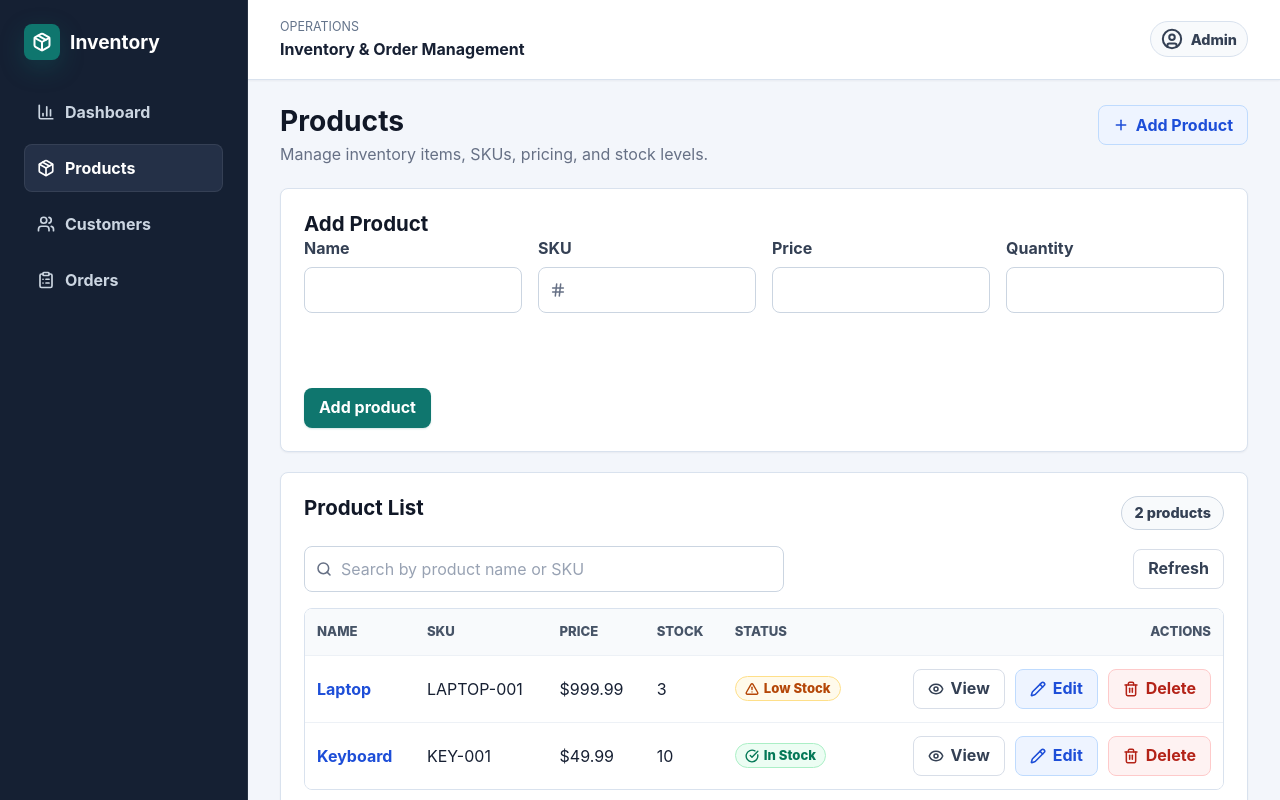
it: frontend flows › successful product creation clears and hides SKU suggestions
Type "Wireless Mouse" into the field labelled "Name".
click(413, 290); type("Wireless Mouse")  # box top-left (304, 267), bottom-right (522, 313)
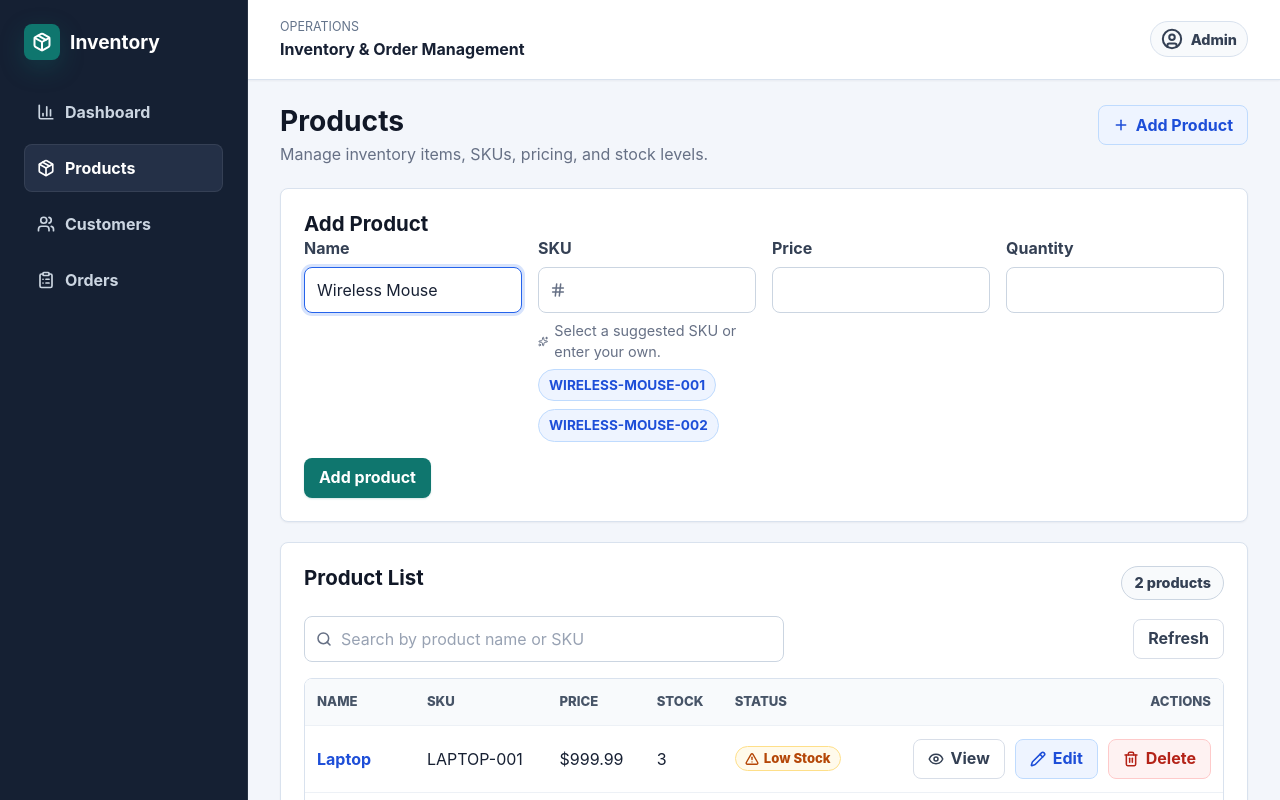
Now the button "WIRELESS-MOUSE-001" is shown, box top-left (538, 369), bottom-right (716, 401)
Type "wireless-mouse-custom" into the field labelled "SKU".
click(647, 290); type("wireless-mouse-custom")  # box top-left (538, 267), bottom-right (756, 313)
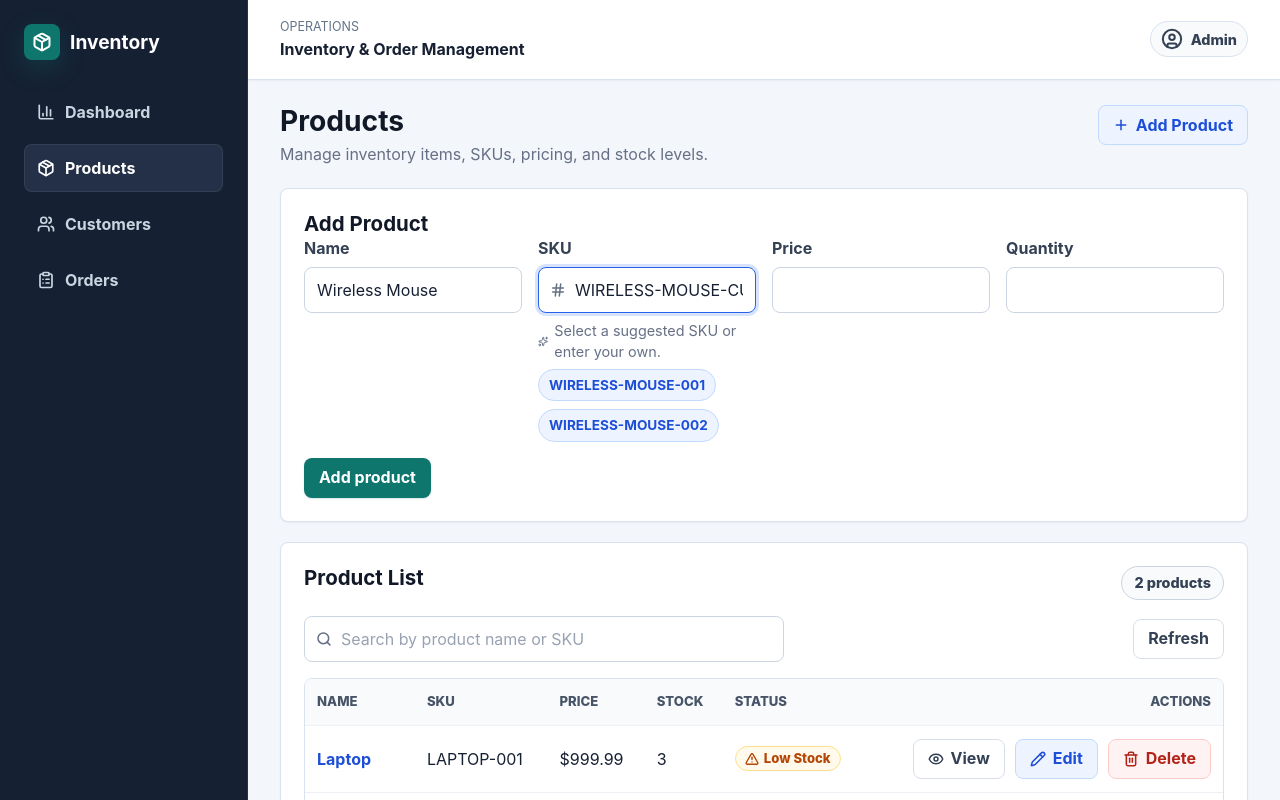
Type "49.99" into the number field labelled "Price".
click(881, 290); type("49.99")  # box top-left (772, 267), bottom-right (990, 313)
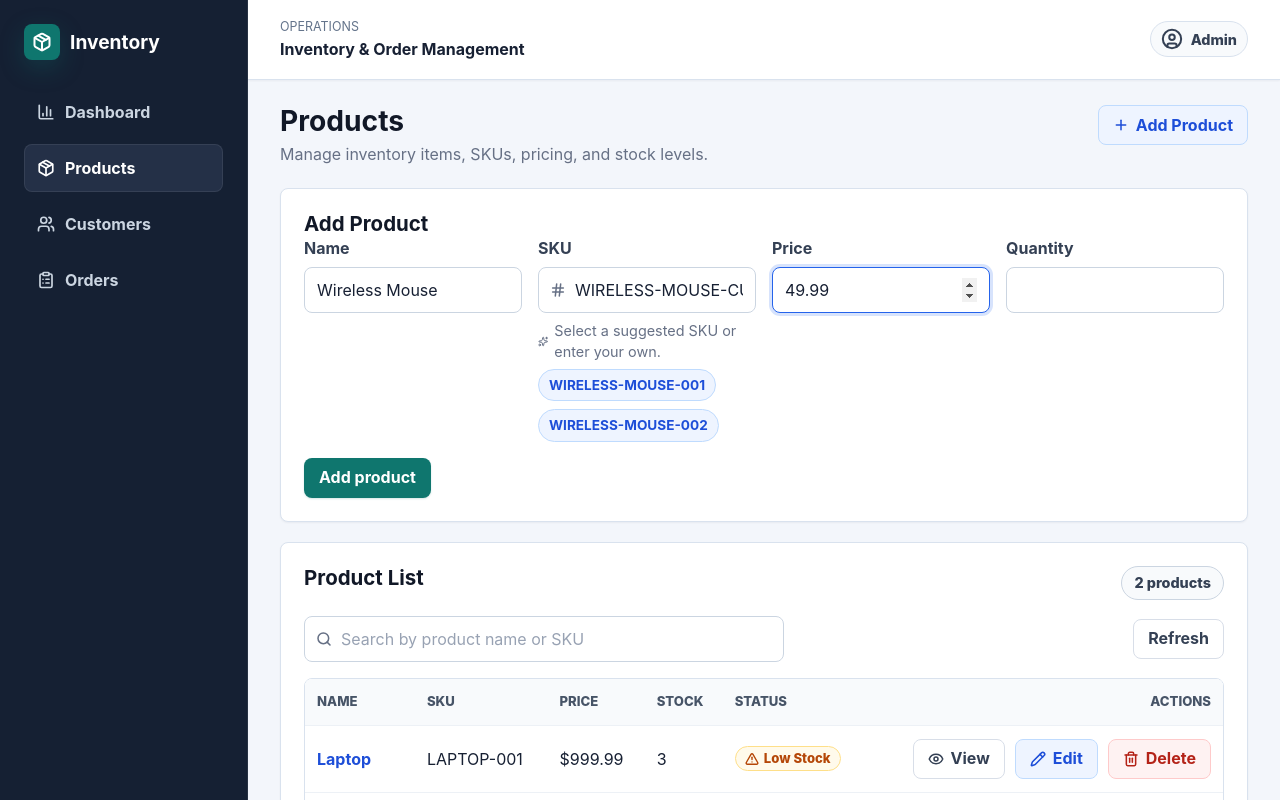
Type "12" into the number field labelled "Quantity".
click(1115, 290); type("12")  # box top-left (1006, 267), bottom-right (1224, 313)
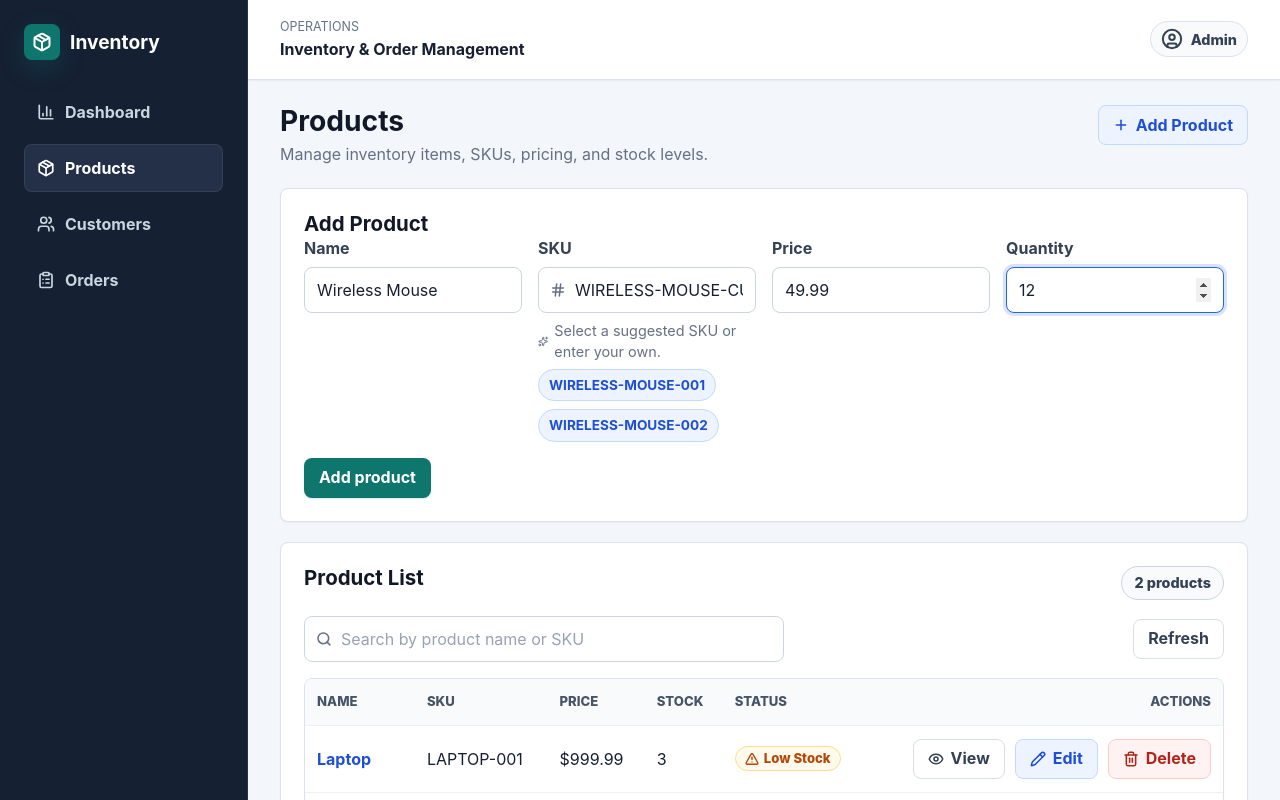
Click the button "Add product".
click(367, 478)  # box top-left (304, 458), bottom-right (431, 498)
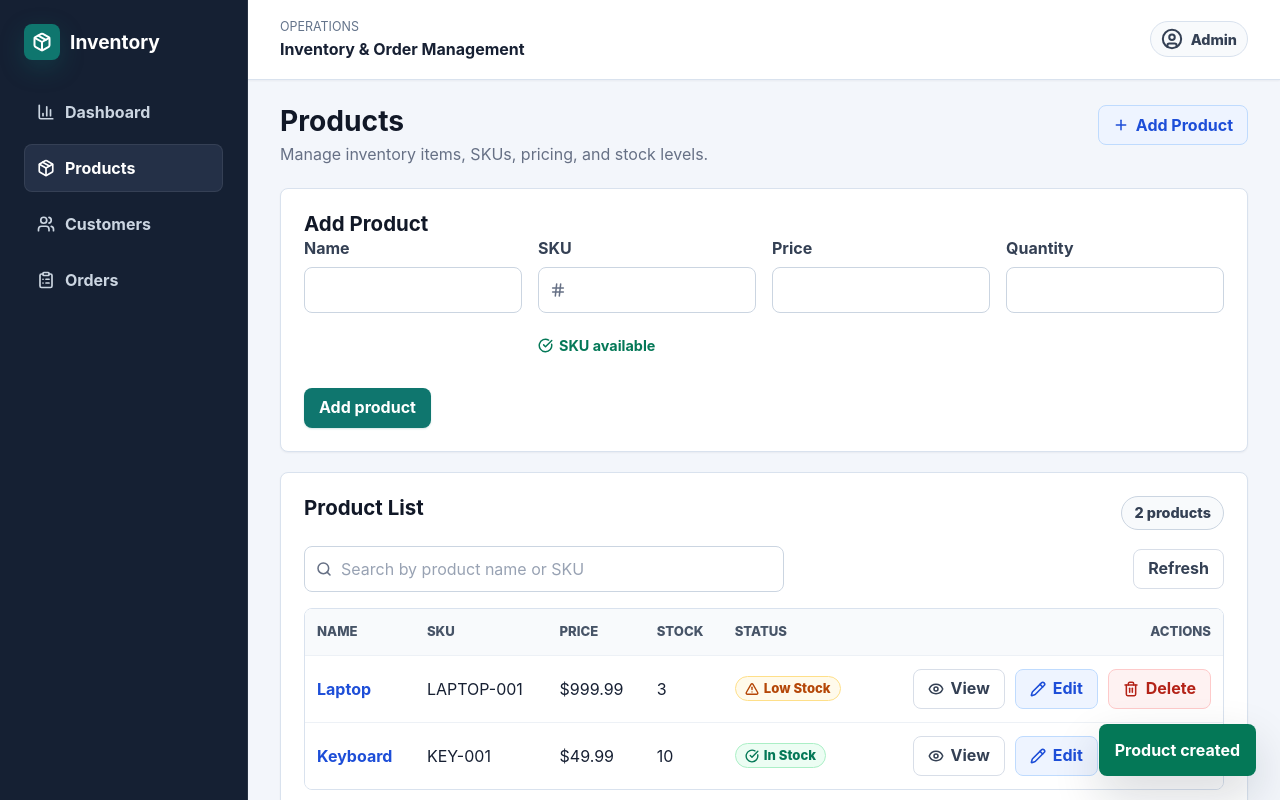
Now the message reads "Product created", box top-left (1115, 740), bottom-right (1240, 760)
Now the field labelled "SKU" is empty, box top-left (538, 267), bottom-right (756, 313)
